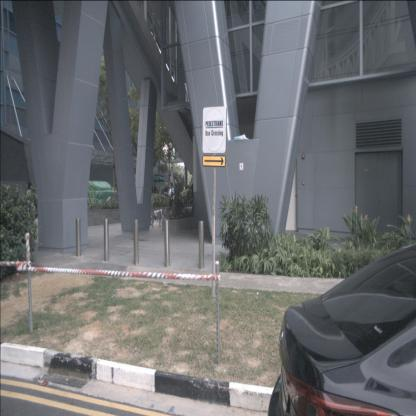human-pedestrian-adult: (24, 181, 35, 238), (167, 183, 176, 218)
vehicle-bicycle: (149, 198, 166, 225)
vehicle-car: (267, 242, 416, 416)
